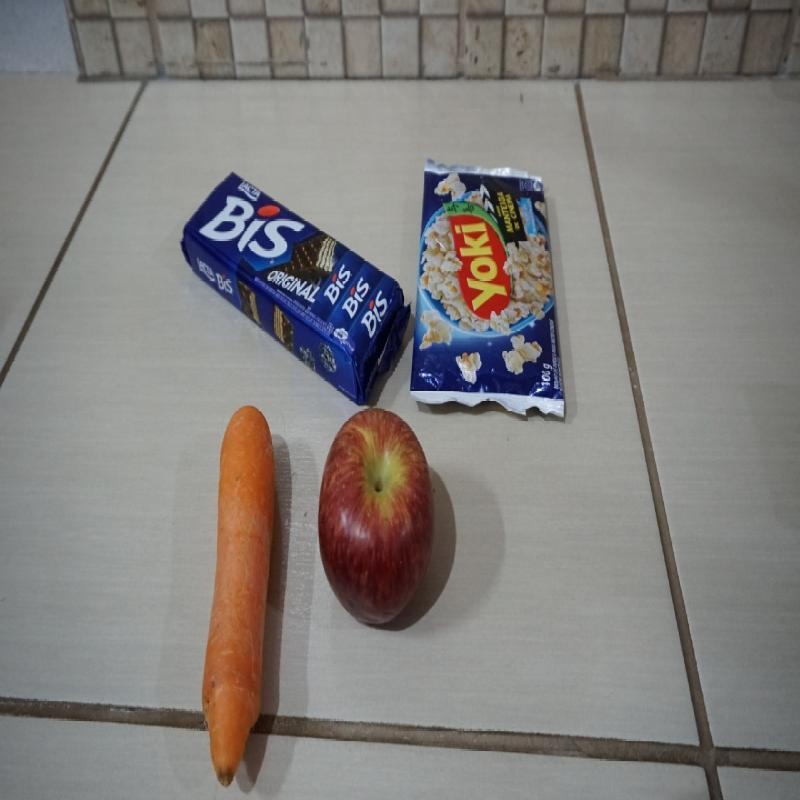Apple: (318, 408, 438, 629)
Carrot: (198, 404, 277, 788)
Popcorn: (409, 157, 566, 420)
